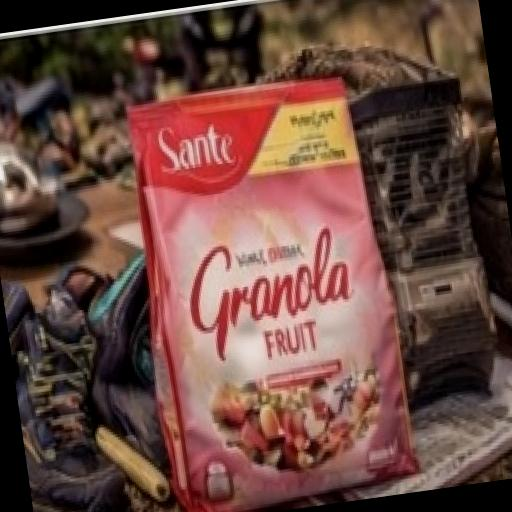granola: (112, 60, 462, 512)
